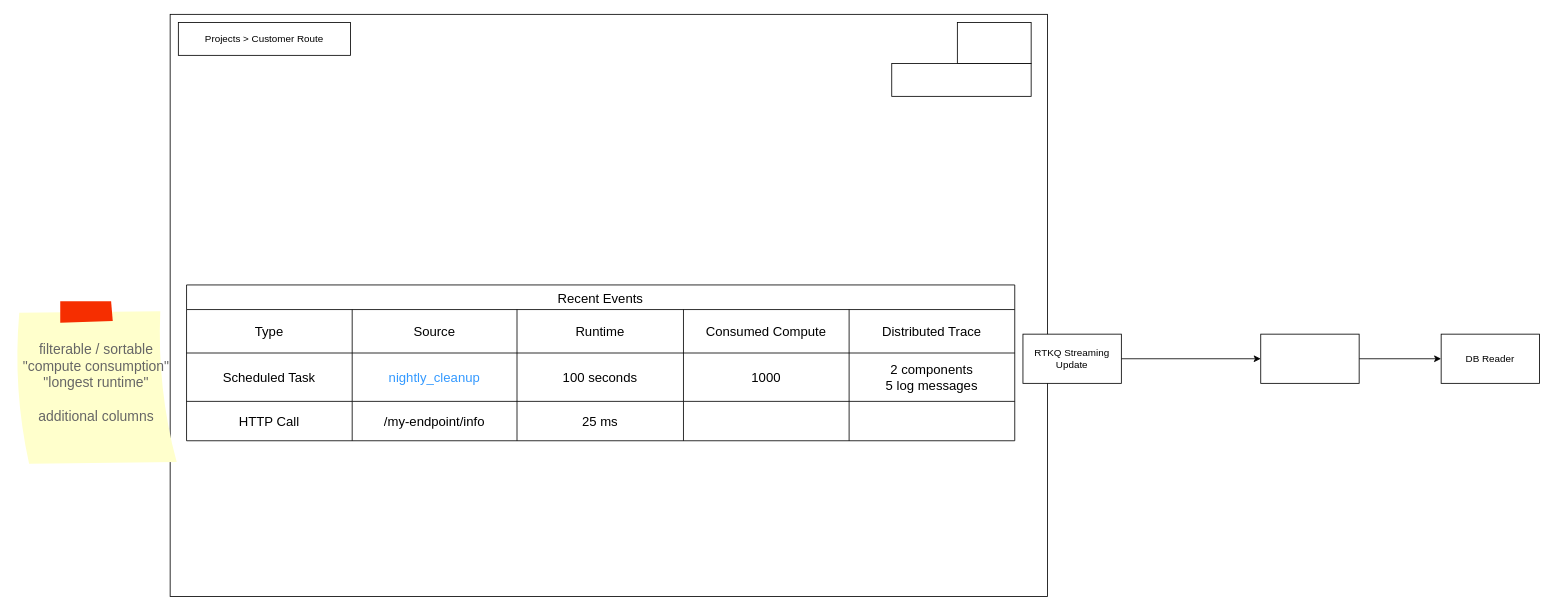
This 1554x611 diagram has some shape labels left out. Each missing label, with the box of its shape:
Log In / Log Out: (891, 63, 1031, 96)
Profile: (957, 22, 1031, 64)
Rust Websockets: (1260, 333, 1359, 383)
